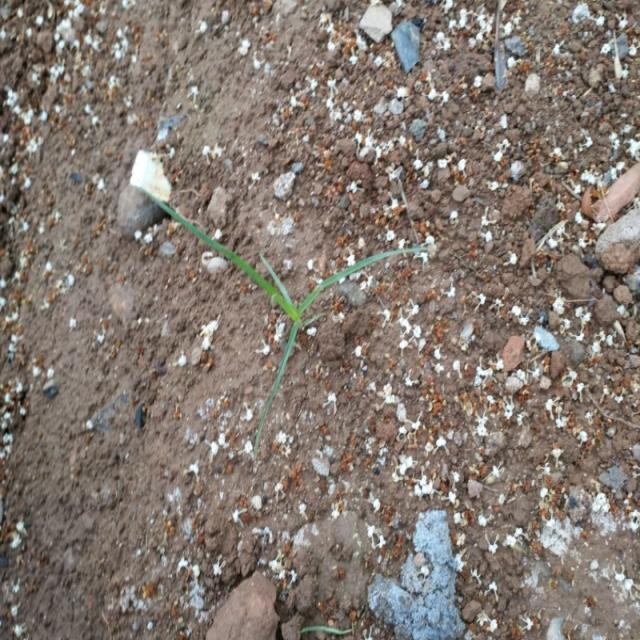sedge: (121, 162, 388, 417)
